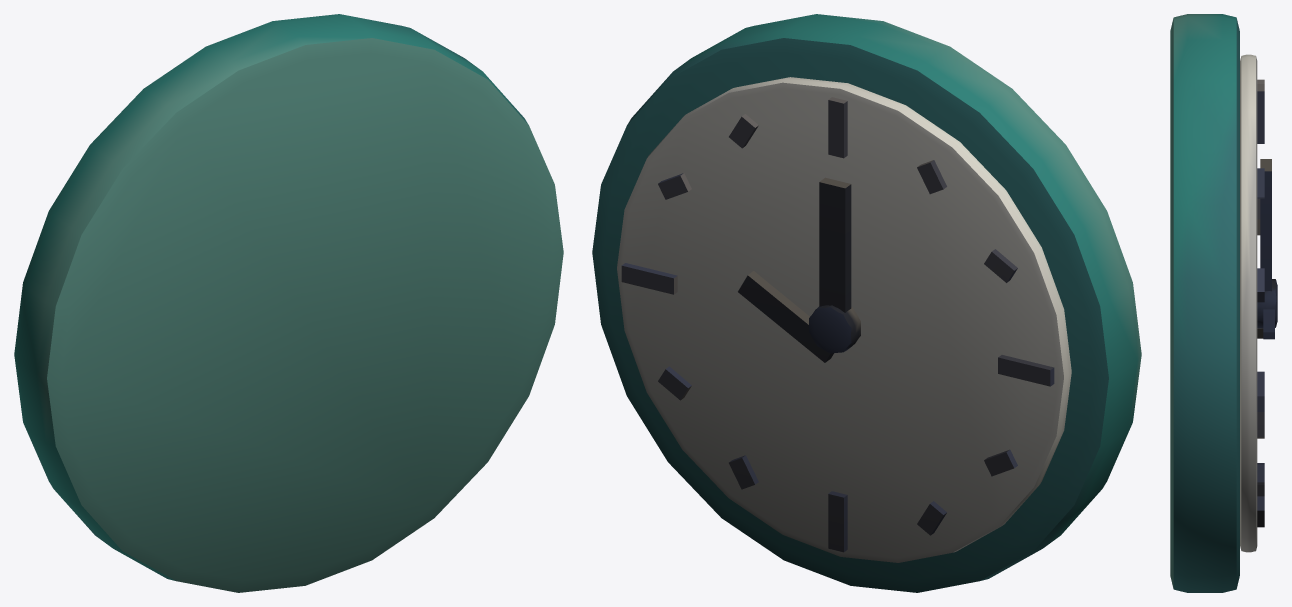
The model's file is WallClock.fbx.
3 renders of one model, left to right at view 1: azimuth 30°, elevation 25°; view 2: azimuth 150°, elevation 25°; view 3: azimuth 270°, elevation 25°, orthographic. The views are drawn at different scales.
Visible parts, largest first — view 1: SM_Prop_WallClock; view 2: SM_Prop_WallClock; view 3: SM_Prop_WallClock.
Part boxes in pixels (x1,y1,x2,y2): SM_Prop_WallClock: (14,14,563,592); SM_Prop_WallClock: (592,14,1141,592); SM_Prop_WallClock: (1170,14,1277,592).
Size of the model in its own units: 2 by 2 by 0.37.
